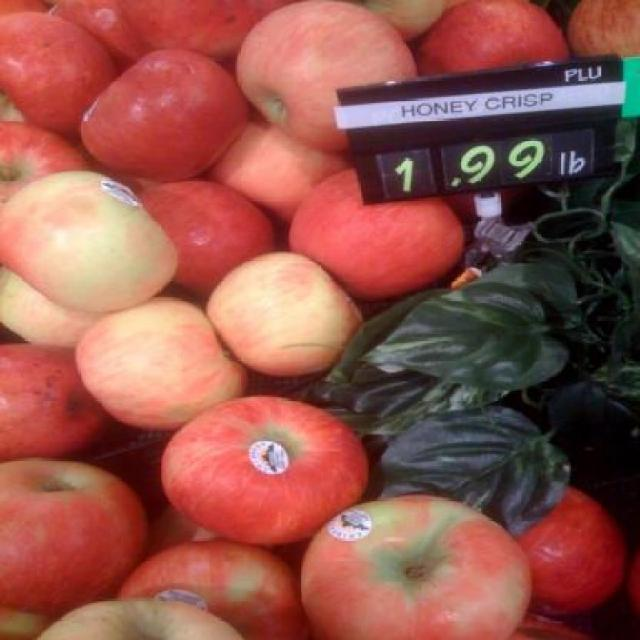Apple pie: (0, 0, 638, 638), (163, 400, 372, 548)
